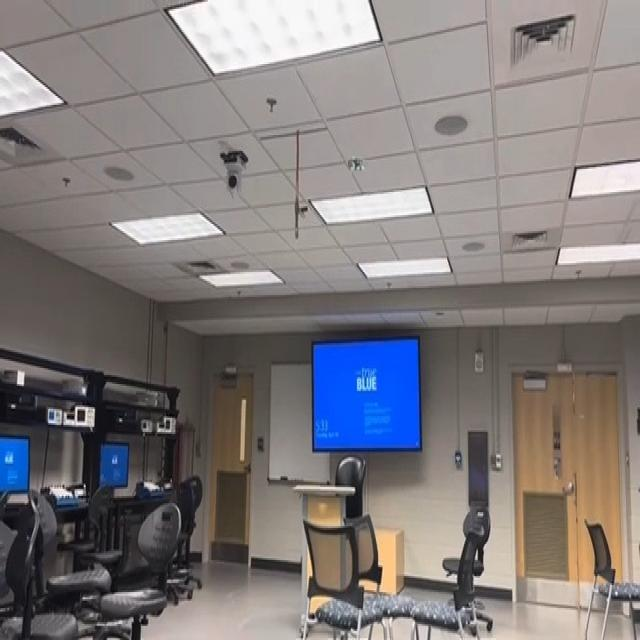drone: (332, 144, 372, 182)
